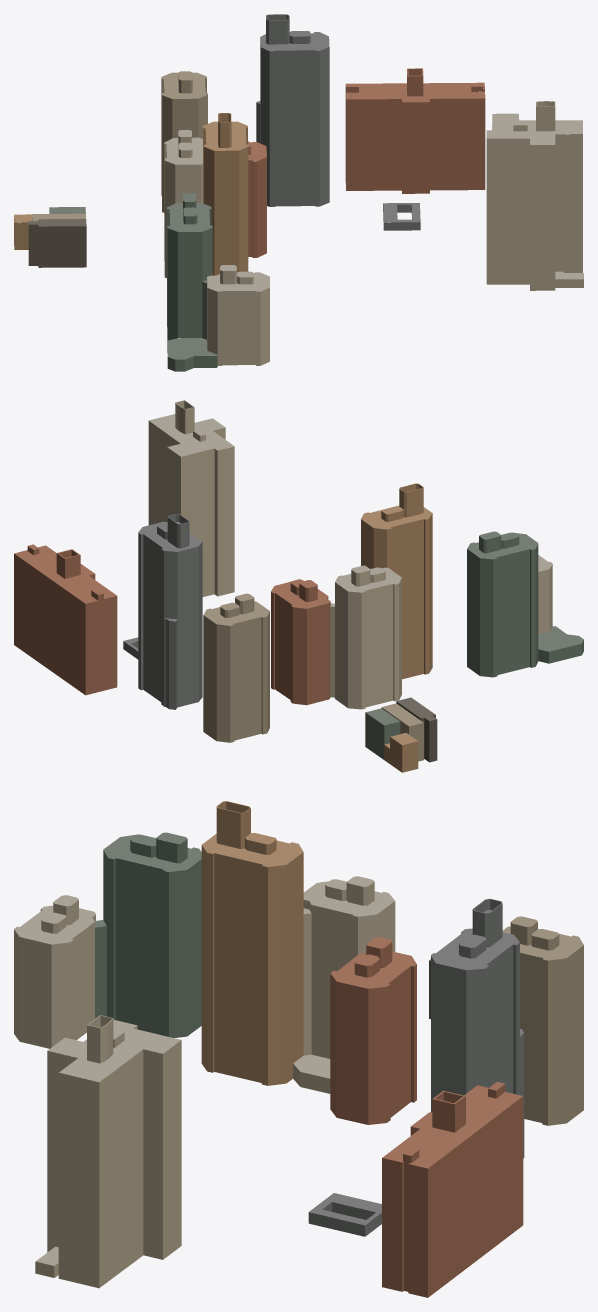
File: tile-8_-6.glb
The picture shows the model from 3 angles, top to bottom: view 1: azimuth 30°, elevation 25°; view 2: azimuth 150°, elevation 25°; view 3: azimuth 270°, elevation 25°; orthographic projection. The views are drawn at different scales.
Parts seen in each view (by area): view 1: wall, roof; view 2: wall, roof; view 3: wall, roof.
Part boxes in pixels (x1,y1,x2,y2): wall: (14,14,583,371); roof: (14,14,583,359); wall: (14,400,583,772); roof: (14,400,583,748); wall: (14,801,583,1297); roof: (14,801,583,1265).
Bounding box in the file's own units: 222 × 90.54 × 175.
